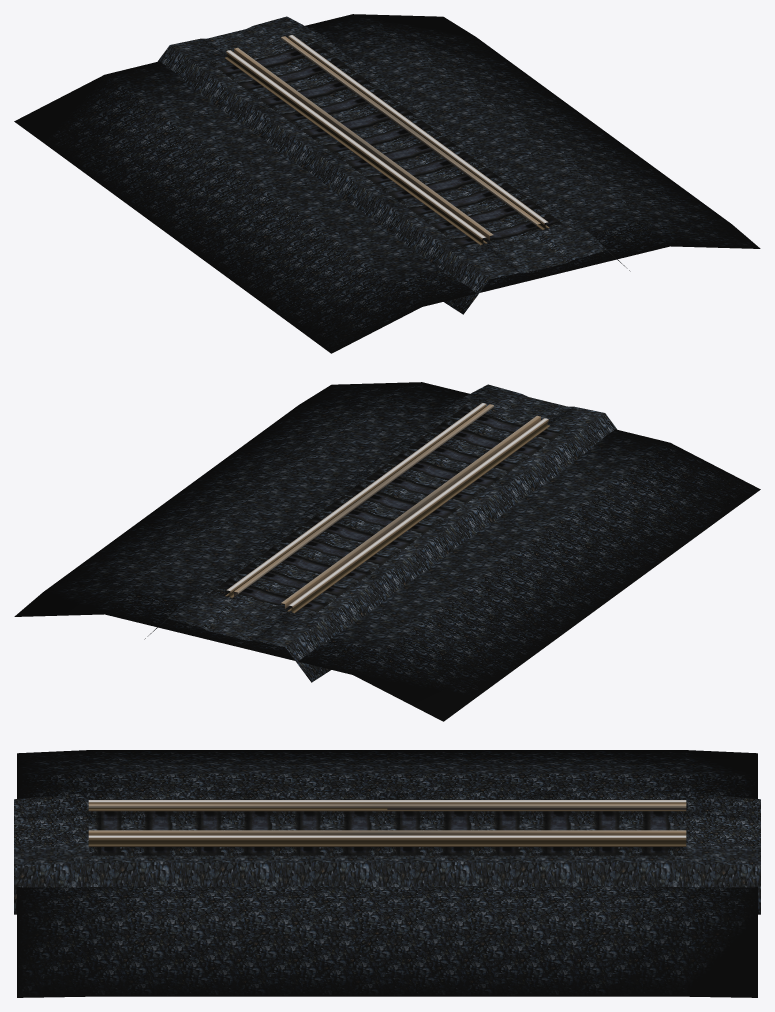
File: SIN_1RAIL_25_JIMEN.glb
3 renders of one model, top to bottom at view 1: azimuth 30°, elevation 25°; view 2: azimuth 150°, elevation 25°; view 3: azimuth 270°, elevation 25°, orthographic. The views are drawn at different scales.
Visible parts, largest first — view 1: obj3, R000_RG_R2, R000_RG_L2; view 2: obj3, R000_RG_R2, R000_RG_L2; view 3: obj3, R000_RG_R2, R000_RG_L2.
Boxes of the visible parts, bbox=[...] form: obj3: bbox=[14, 14, 760, 353]; R000_RG_R2: bbox=[234, 47, 493, 240]; R000_RG_L2: bbox=[281, 36, 540, 225]; obj3: bbox=[14, 382, 760, 721]; R000_RG_R2: bbox=[281, 415, 540, 608]; R000_RG_L2: bbox=[234, 404, 493, 596]; obj3: bbox=[14, 750, 760, 997]; R000_RG_R2: bbox=[88, 803, 686, 809]; R000_RG_L2: bbox=[88, 830, 686, 835].
Bounding box in the file's own units: 24.42 × 2.65 × 31.25.
6 materials, 5 textured.
